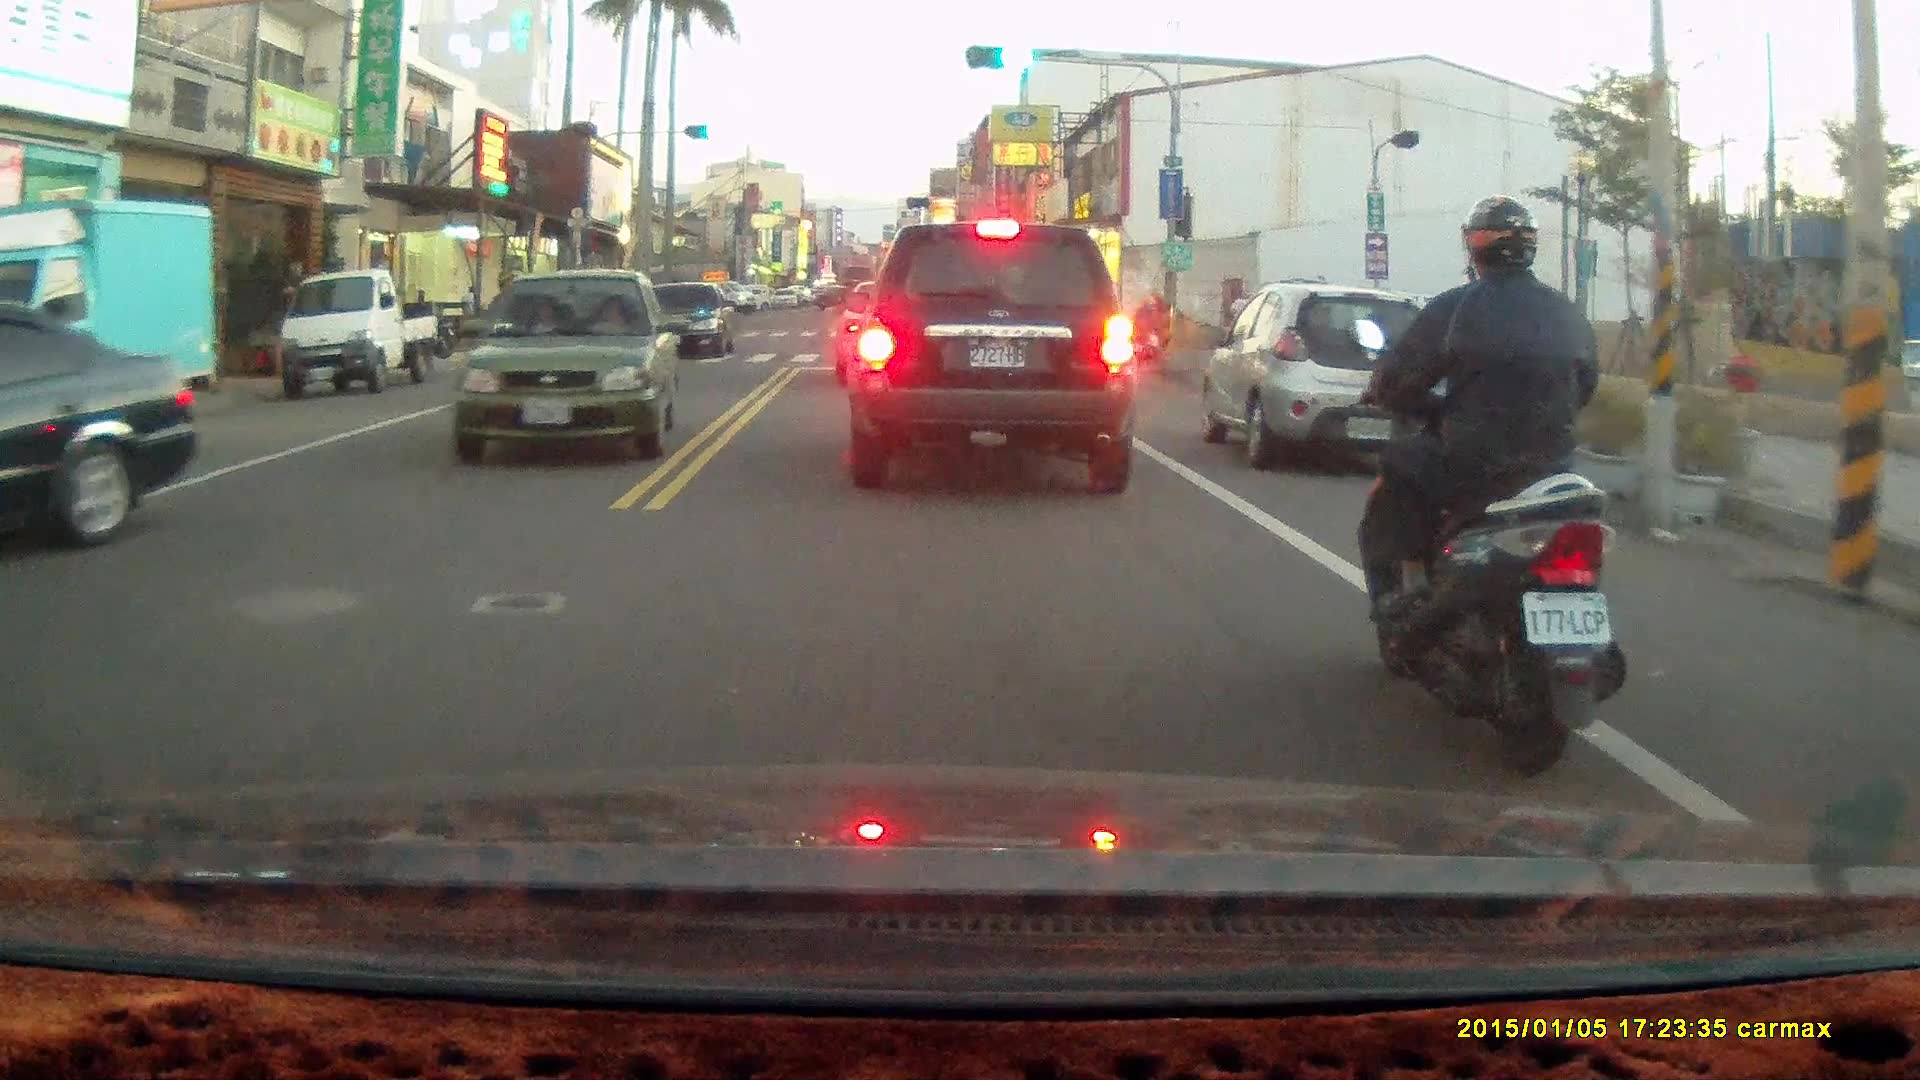rider: (1349, 196, 1631, 785), (1128, 292, 1171, 368)
vehicle: (848, 223, 1141, 495), (0, 196, 222, 437), (1200, 283, 1468, 477), (1, 299, 200, 552), (456, 267, 679, 460), (273, 268, 442, 400), (633, 282, 738, 363)
